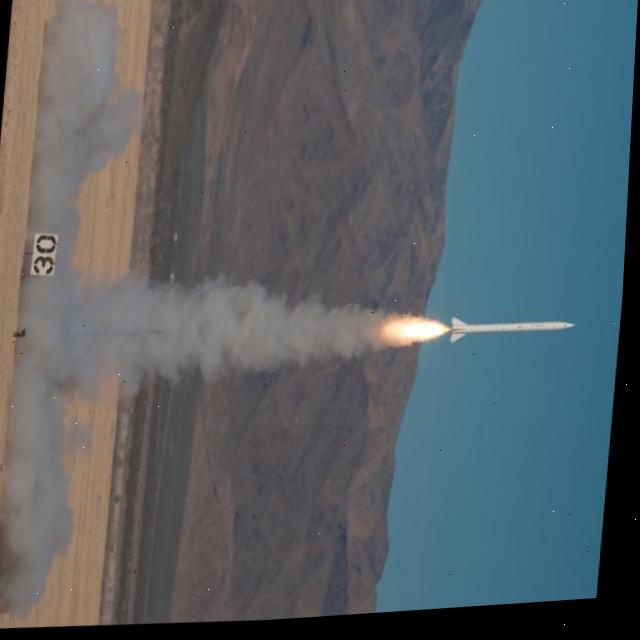missile: (433, 308, 589, 367)
